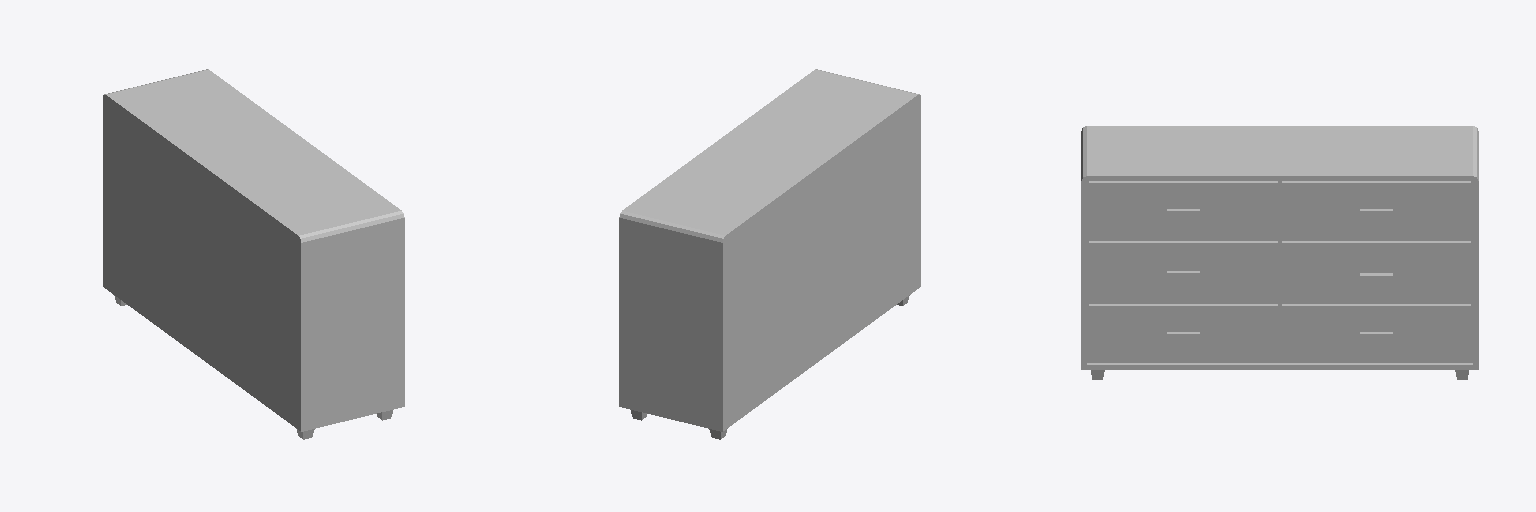
The model's file is dresser.obj.
The picture shows the model from 3 angles: view 1: azimuth 30°, elevation 25°; view 2: azimuth 150°, elevation 25°; view 3: azimuth 270°, elevation 25°; orthographic projection.
Parts seen in each view (by area): view 1: dresser_low_Untitled.008; view 2: dresser_low_Untitled.008; view 3: dresser_low_Untitled.008, drawer3_low_Untitled, drawer4_low_Untitled.015, drawer6_low_Untitled.002, drawer5_low_Untitled.001, drawer2_low_Untitled.013, drawer1_low_Untitled.010.
Part boxes in pixels (x1,y1,x2,y2): dresser_low_Untitled.008: (103,69,404,431); dresser_low_Untitled.008: (619,69,920,431); dresser_low_Untitled.008: (1081,126,1478,369); drawer3_low_Untitled: (1089,241,1277,303); drawer4_low_Untitled.015: (1282,241,1470,303); drawer6_low_Untitled.002: (1282,304,1470,362); drawer5_low_Untitled.001: (1089,304,1277,362); drawer2_low_Untitled.013: (1282,181,1470,239); drawer1_low_Untitled.010: (1089,181,1277,239).
Bounding box in the file's own units: 0.1274 × 0.2347 × 0.4061.